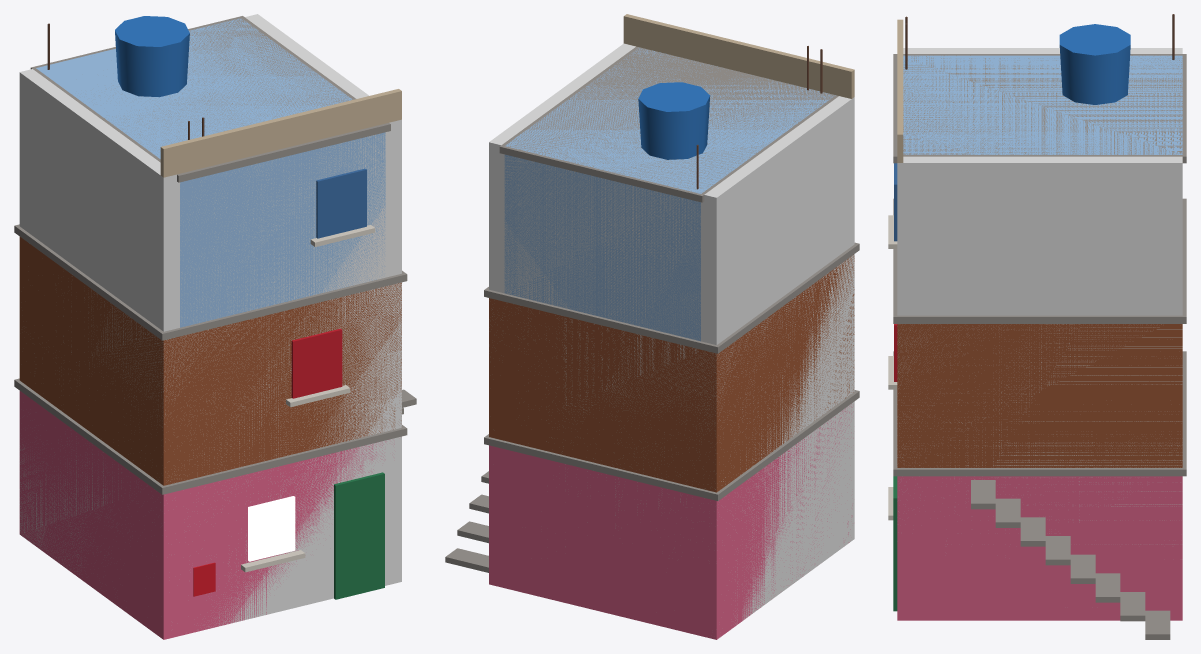
Rendered from casa_favela_2.glb.
3 renders of one model, left to right at view 1: azimuth 30°, elevation 25°; view 2: azimuth 150°, elevation 25°; view 3: azimuth 270°, elevation 25°, orthographic. The views are drawn at different scales.
Visible parts, largest first — view 1: casa_favela_2_Malla, COL_0; view 2: casa_favela_2_Malla, COL_0; view 3: casa_favela_2_Malla, COL_0.
Boxes of the visible parts, bbox=[...] form: casa_favela_2_Malla: bbox=[14, 16, 416, 639]; COL_0: bbox=[19, 14, 401, 627]; casa_favela_2_Malla: bbox=[445, 14, 859, 639]; COL_0: bbox=[489, 43, 854, 637]; casa_favela_2_Malla: bbox=[888, 14, 1186, 639]; COL_0: bbox=[897, 48, 1182, 544].
Size of the model in its own units: 5.38 by 9 by 4.78.
